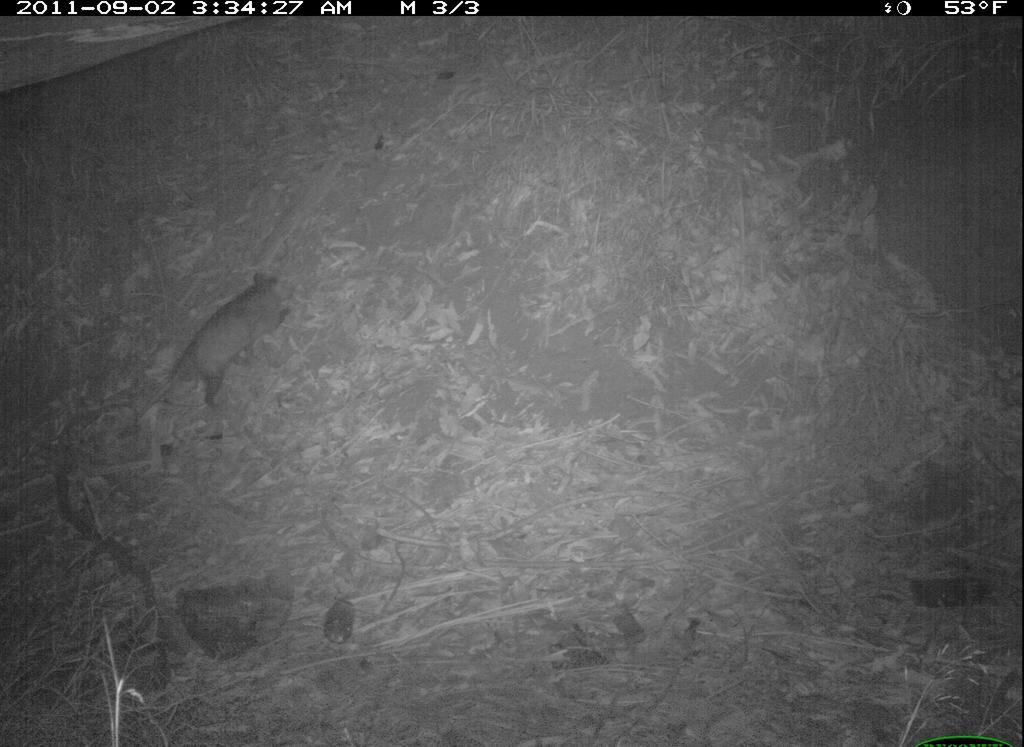opossum: (107, 244, 308, 456)
